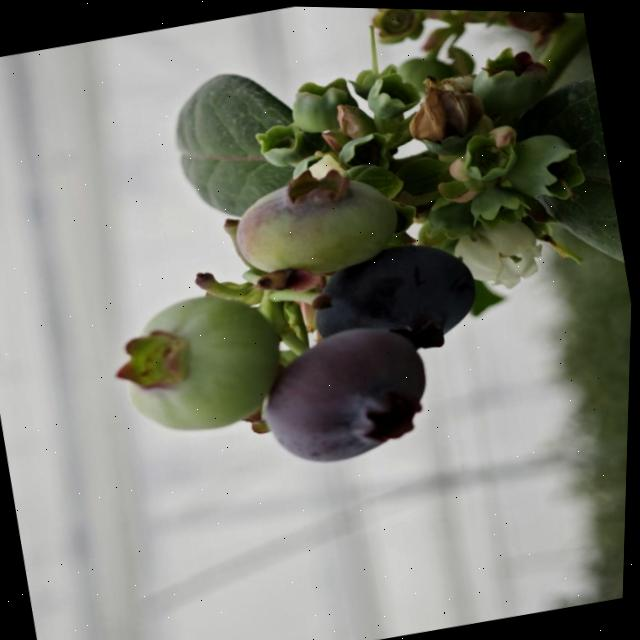RipeBlueBerry: (306, 227, 488, 364)
Semi-RipeBlueBerry: (251, 310, 444, 473)
UnripeBlueBerry: (108, 278, 295, 446), (225, 161, 408, 286)
